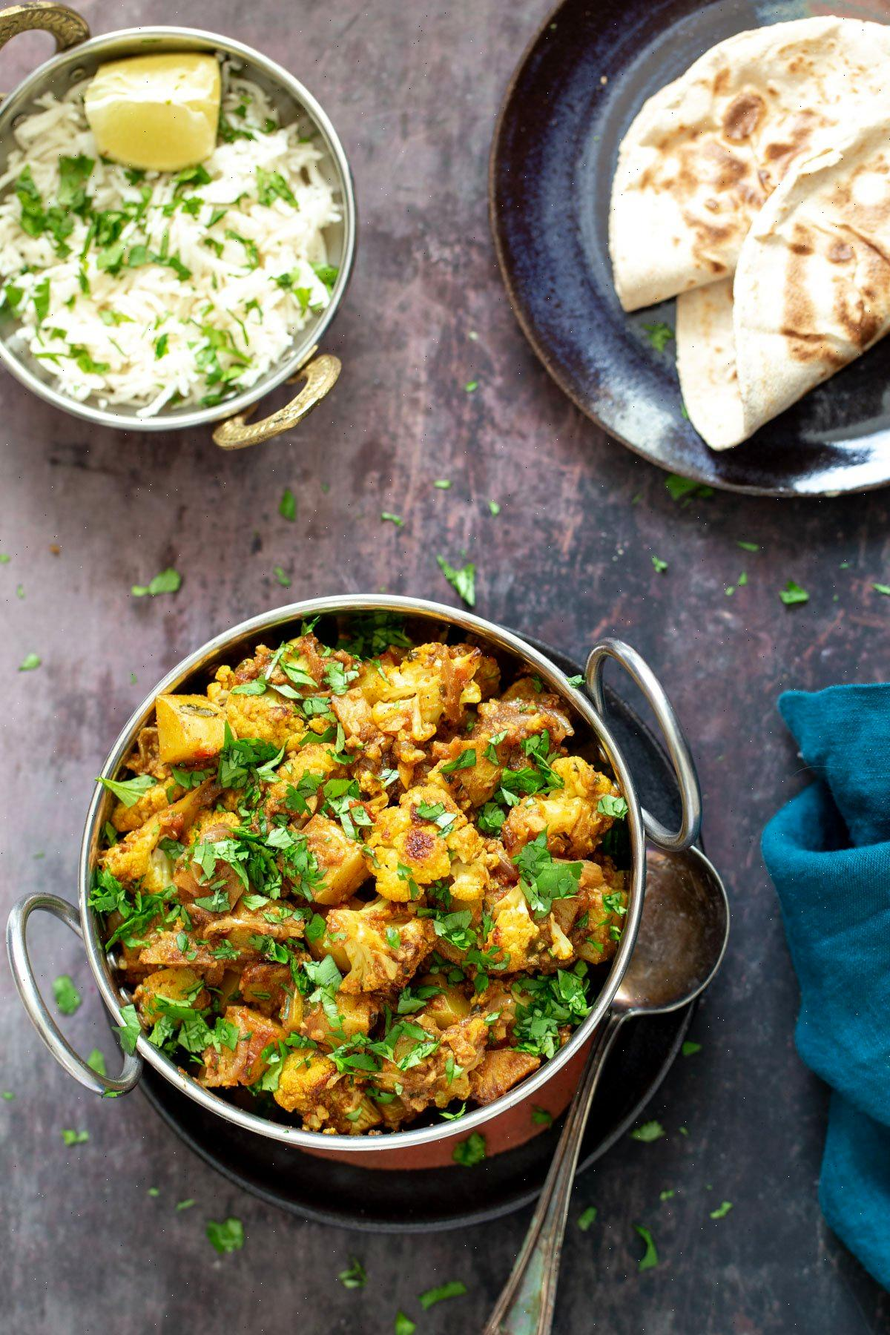aloo gobhi: (87, 617, 559, 1096)
rice: (13, 159, 342, 420)
roti phulka: (595, 0, 890, 454)
